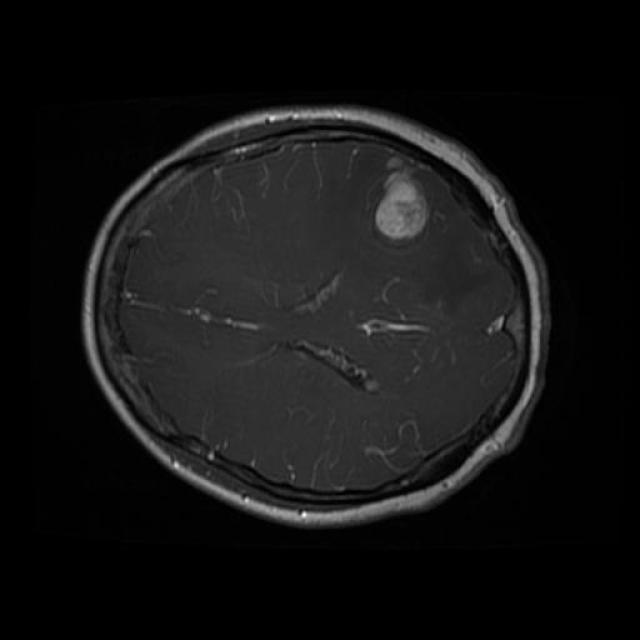Glioma: (374, 156, 429, 240)
